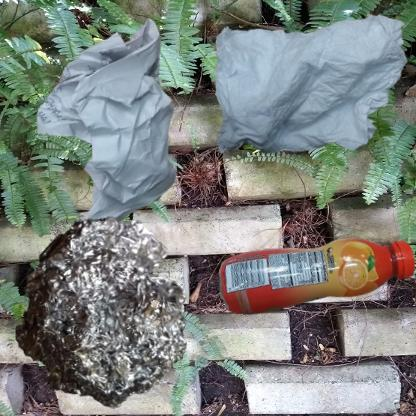aluminio: (10, 213, 189, 412)
botella: (213, 213, 416, 350)
papel: (10, 10, 260, 284), (213, 10, 409, 158)
